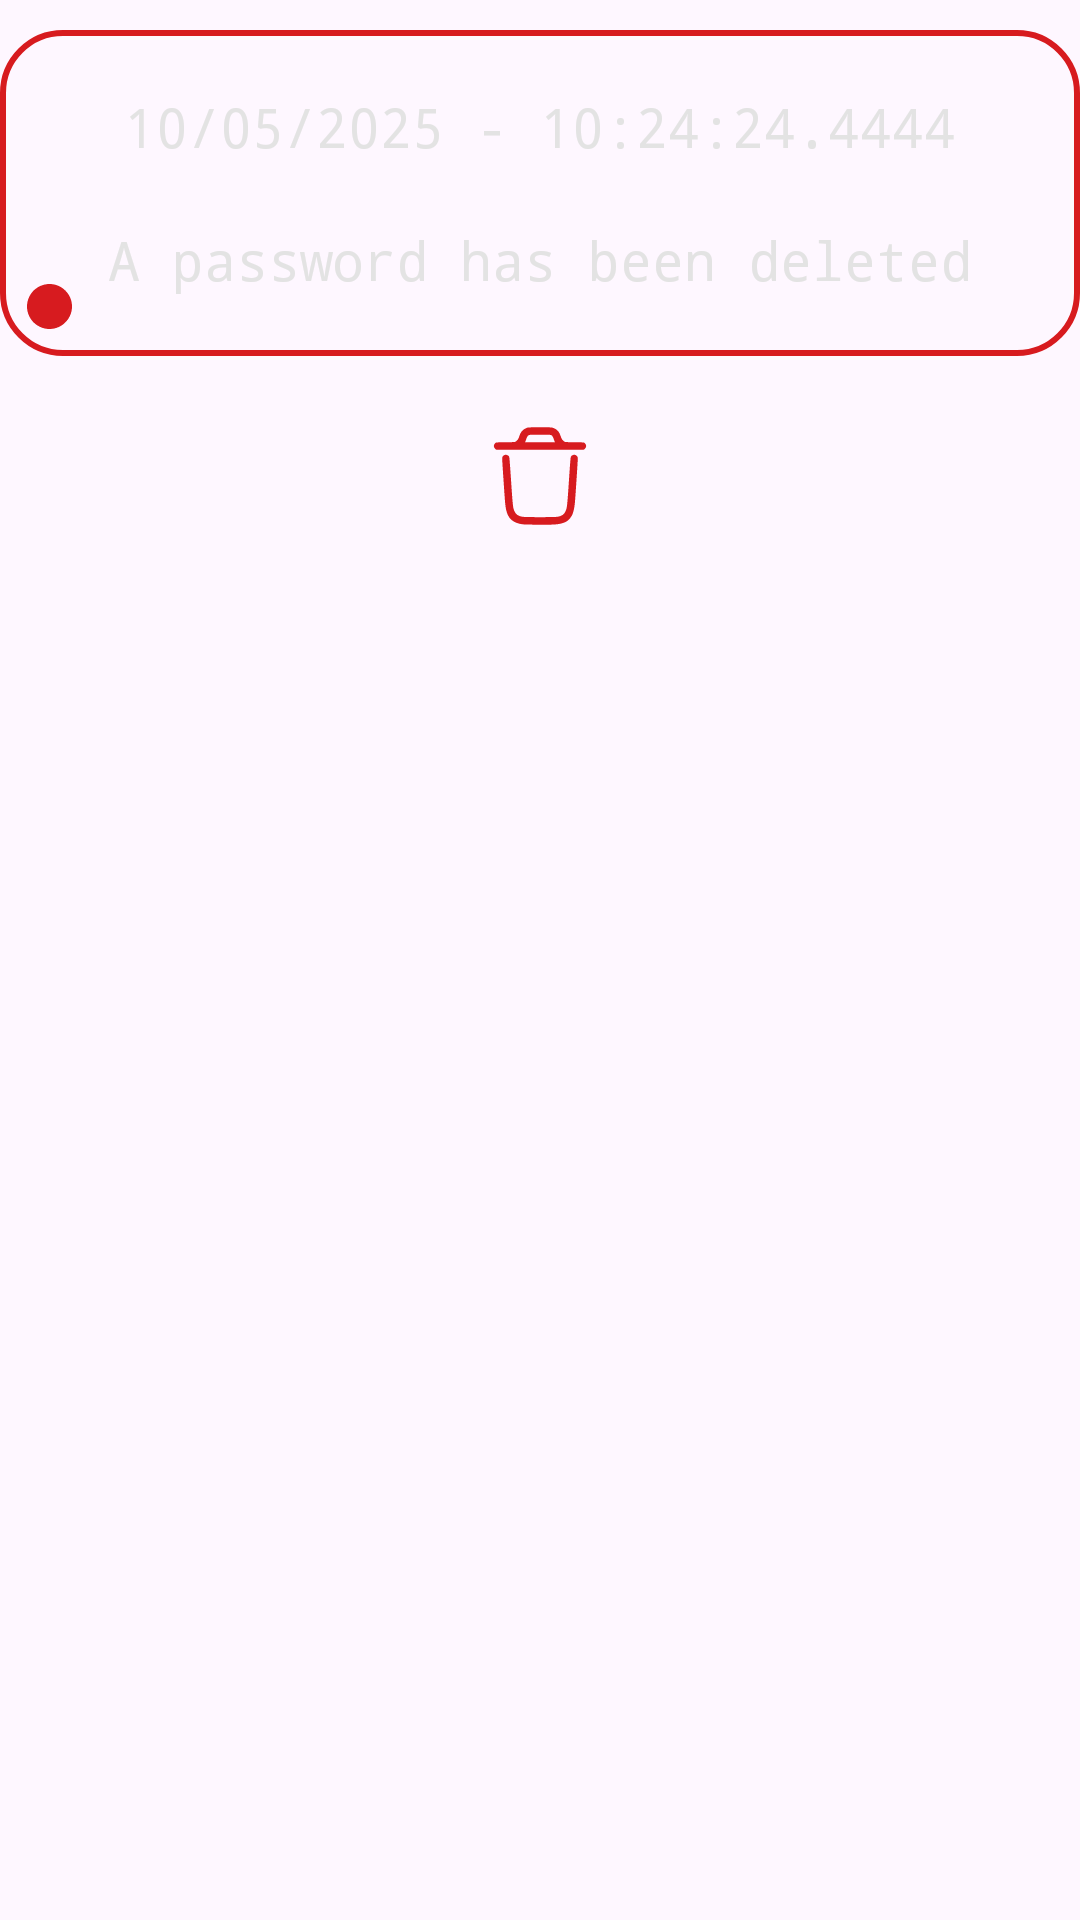

Icon bounding boxes for this 1080px×1920px phone screenshot, format (x1=x1, y1=y1, x2=x2, y2=y2):
delete pass: (x1=494, y1=427, x2=586, y2=525)
